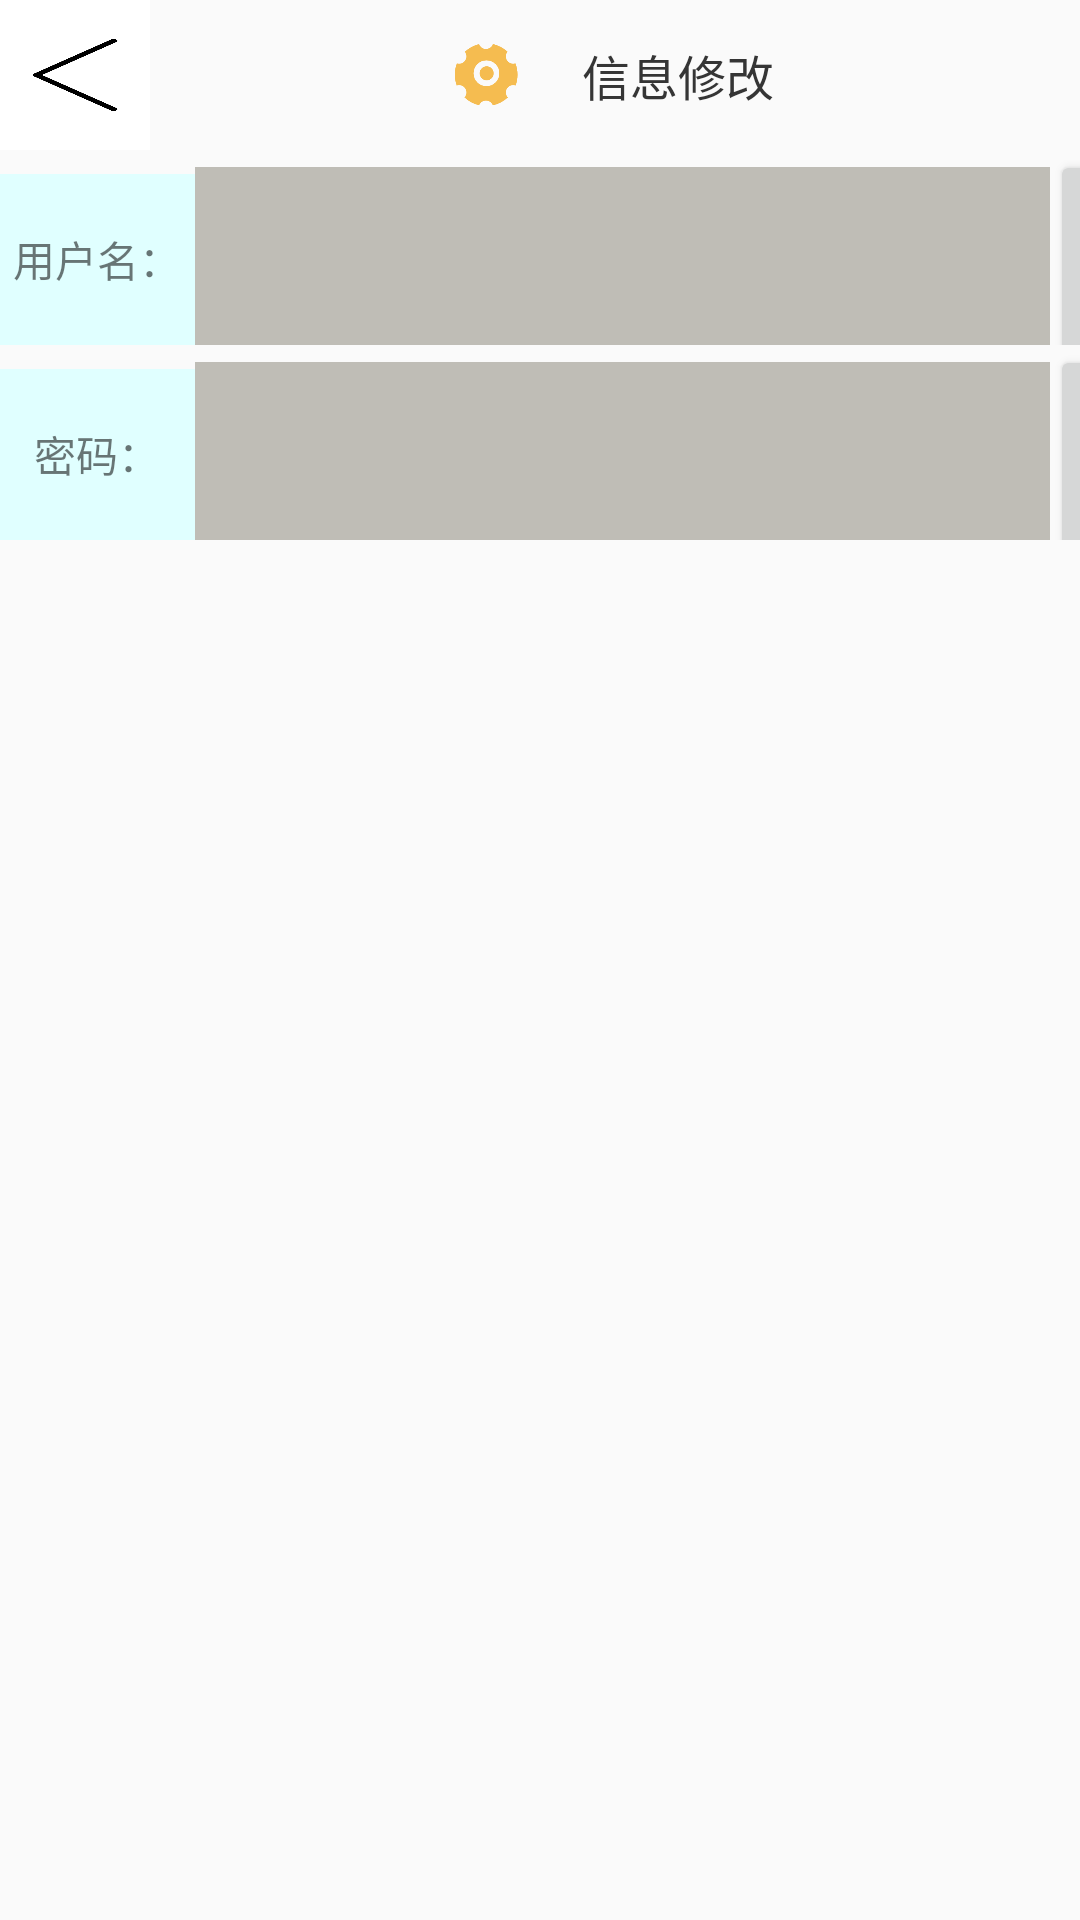

Icons on this 1080×1920 Android screen, each with the point to tap as [x,y]:
back: [75,75]
setting: [486,74]
